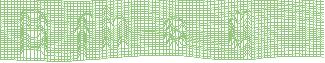B: (18, 8, 51, 60)
f: (72, 12, 95, 60)
h: (99, 4, 132, 52)
q: (225, 7, 255, 61)
s: (161, 15, 190, 50)
